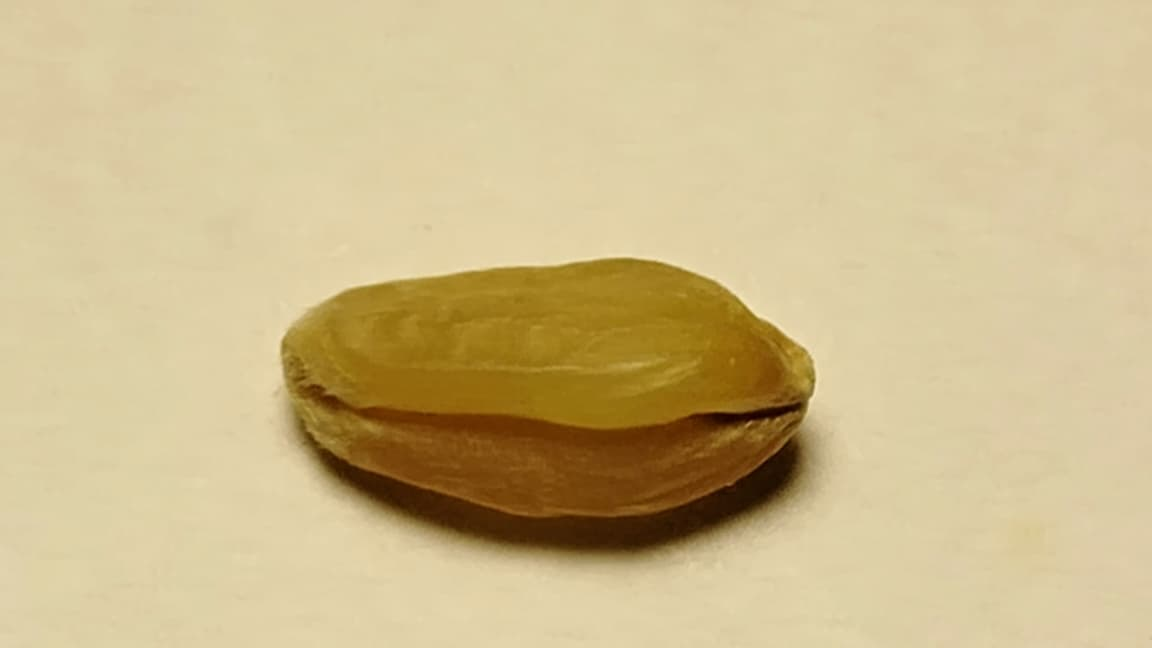healthy: (282, 258, 814, 516)
